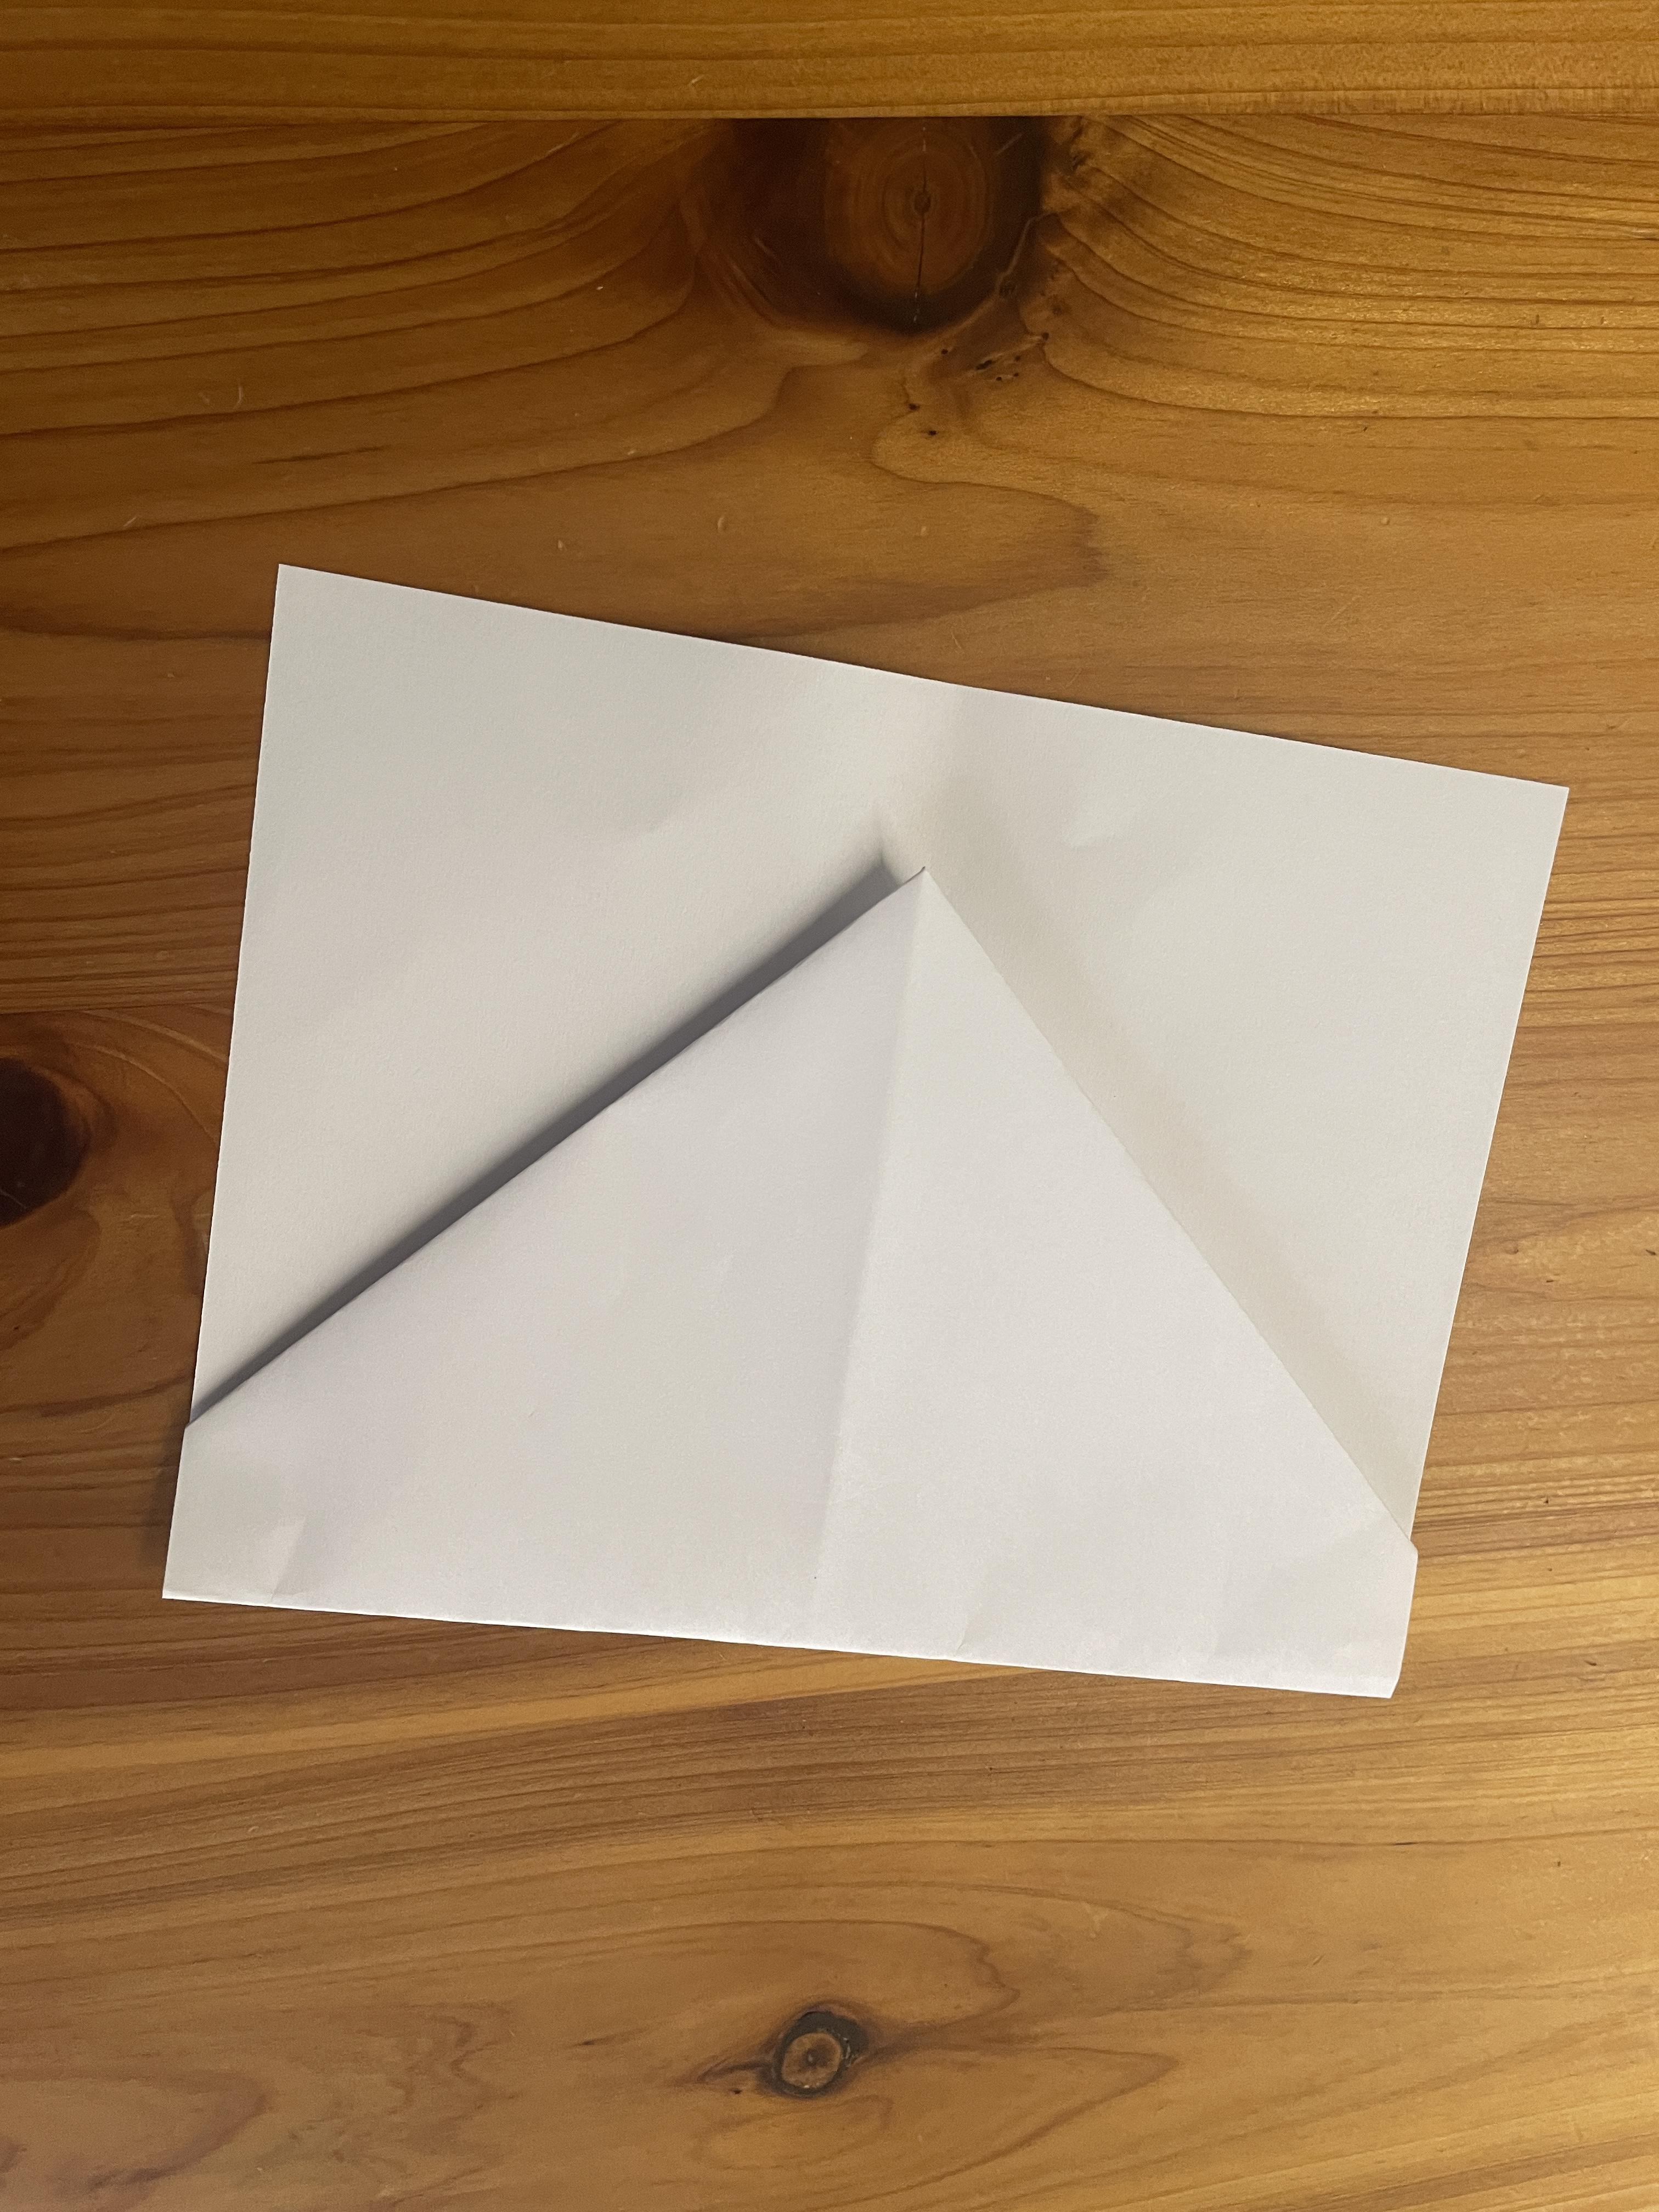shape_1: (71, 364, 1622, 1925)
